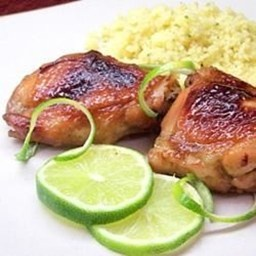background: (1, 0, 102, 102)
